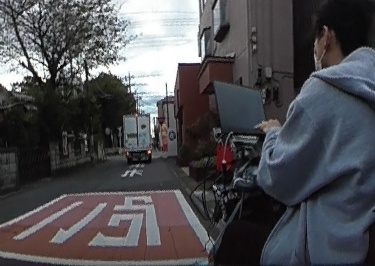person: (225, 0, 375, 266)
